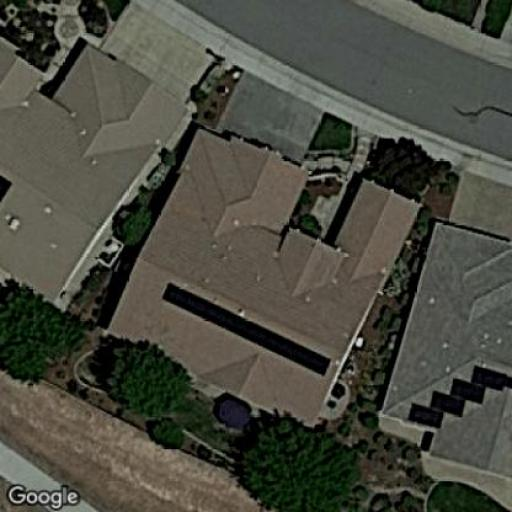solar-panel: (162, 278, 332, 380), (406, 362, 512, 429), (0, 174, 15, 211)
